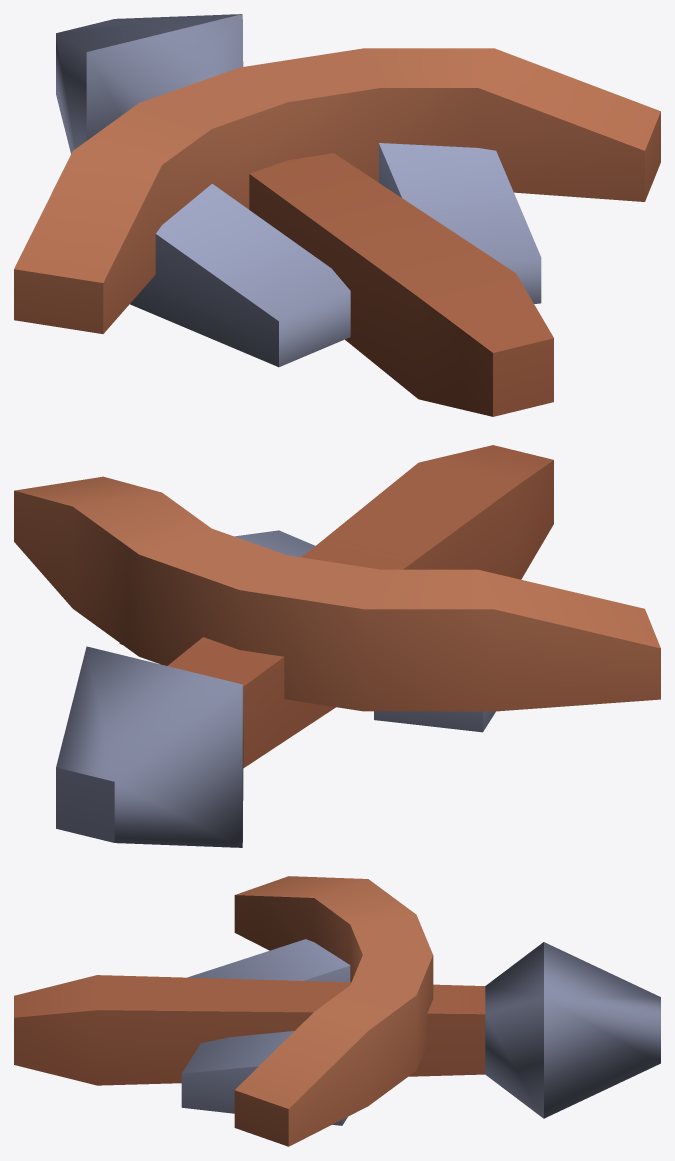
The model's file is ballista.fbx.
The picture shows the model from 3 angles, top to bottom: view 1: azimuth 30°, elevation 25°; view 2: azimuth 150°, elevation 25°; view 3: azimuth 270°, elevation 25°; orthographic projection. The views are drawn at different scales.
Visible parts, largest first — view 1: arrow; view 2: arrow; view 3: arrow.
Boxes of the visible parts, <box> form: arrow: <box>14,14,660,416</box>; arrow: <box>14,445,660,847</box>; arrow: <box>14,876,660,1146</box>.
Bounding box in the file's own units: 0.8522 × 0.2315 × 1.
